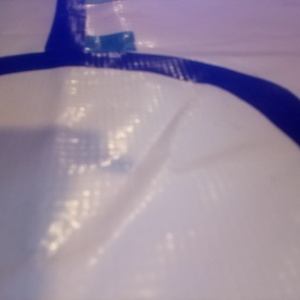top_right: (45, 18, 161, 68)
